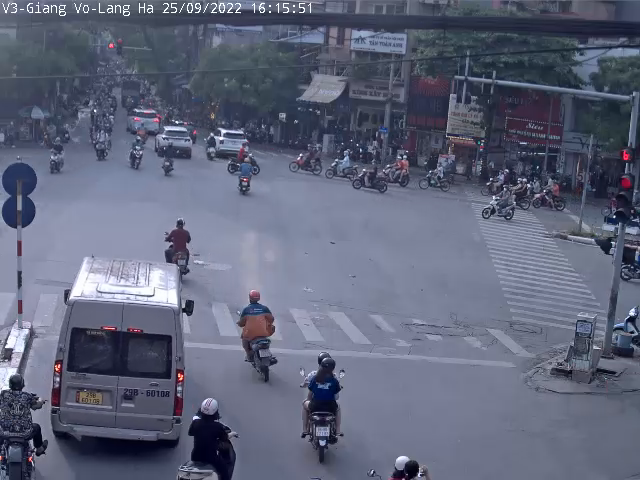người trên xe: (295, 348, 355, 461), (173, 397, 242, 480), (0, 372, 52, 480), (232, 289, 292, 382), (159, 206, 199, 278), (364, 450, 442, 480), (232, 151, 258, 194), (154, 139, 177, 180)
